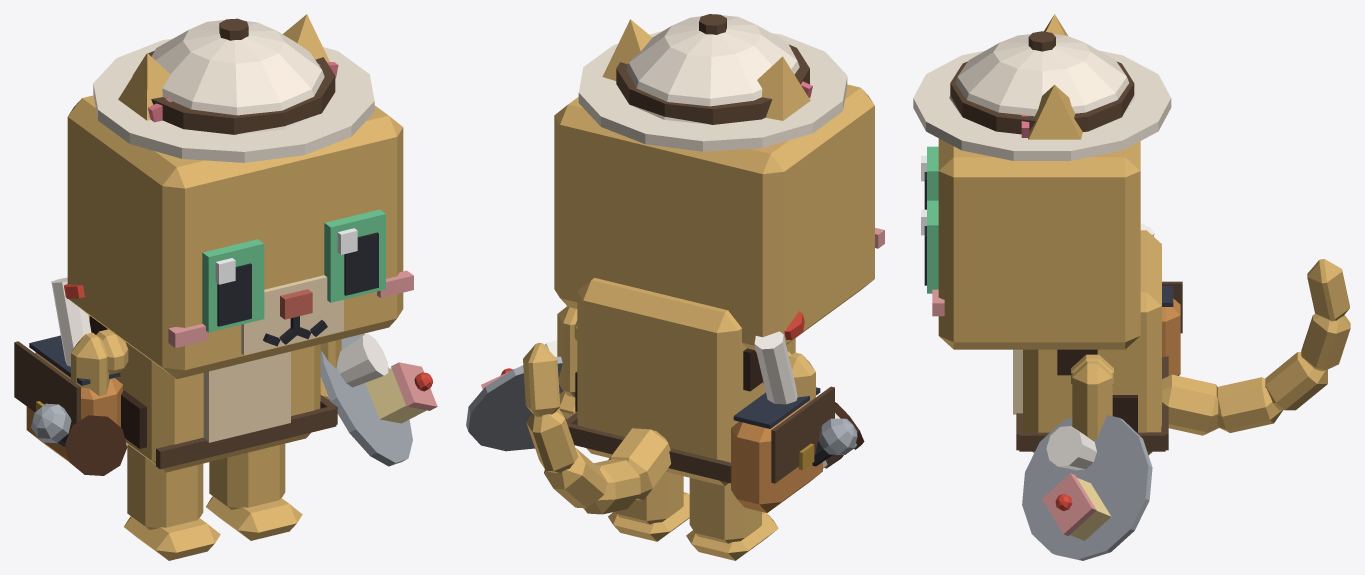
The model's file is CatCafe_Cat_Bengal_Work.glb.
3 views of the same model, side by side, from view 1: azimuth 30°, elevation 25°; view 2: azimuth 150°, elevation 25°; view 3: azimuth 270°, elevation 25° (orthographic). The views are drawn at different scales.
Parts seen in each view (by area): view 1: CatCafe_Cat_Bengal_Work_Head, CatCafe_Cat_Bengal_Work_Prop, CatCafe_Cat_Bengal_Work_Body, CatCafe_Cat_Bengal_Work_Held_Waiter, CatCafe_Cat_Bengal_Work_LegB2, CatCafe_Cat_Bengal_Work_LegB1, CatCafe_Cat_Bengal_Work_Eye2, CatCafe_Cat_Bengal_Work_Eye1, CatCafe_Cat_Bengal_Work_Held_Barista, CatCafe_Cat_Bengal_Work_EarR, CatCafe_Cat_Bengal_Work_LegF2, CatCafe_Cat_Bengal_Work_Held_Entertainer (+1 smaller); view 2: CatCafe_Cat_Bengal_Work_Head, CatCafe_Cat_Bengal_Work_Body, CatCafe_Cat_Bengal_Work_Prop, CatCafe_Cat_Bengal_Work_Tail, CatCafe_Cat_Bengal_Work_LegB2, CatCafe_Cat_Bengal_Work_Held_Waiter, CatCafe_Cat_Bengal_Work_LegB1, CatCafe_Cat_Bengal_Work_EarR, CatCafe_Cat_Bengal_Work_LegF1, CatCafe_Cat_Bengal_Work_Held_Entertainer, CatCafe_Cat_Bengal_Work_EarL, CatCafe_Cat_Bengal_Work_LegF2; view 3: CatCafe_Cat_Bengal_Work_Head, CatCafe_Cat_Bengal_Work_Prop, CatCafe_Cat_Bengal_Work_Body, CatCafe_Cat_Bengal_Work_Held_Waiter, CatCafe_Cat_Bengal_Work_Tail, CatCafe_Cat_Bengal_Work_LegF1, CatCafe_Cat_Bengal_Work_EarL, CatCafe_Cat_Bengal_Work_Eye1, CatCafe_Cat_Bengal_Work_Eye2.
Part boxes in pixels (x1=…): CatCafe_Cat_Bengal_Work_Head: x1=67, y1=95, x2=413, y2=378; CatCafe_Cat_Bengal_Work_Prop: x1=93, y1=18, x2=374, y2=162; CatCafe_Cat_Bengal_Work_Body: x1=14, y1=277, x2=337, y2=472; CatCafe_Cat_Bengal_Work_Held_Waiter: x1=320, y1=333, x2=437, y2=466; CatCafe_Cat_Bengal_Work_LegB2: x1=124, y1=444, x2=220, y2=560; CatCafe_Cat_Bengal_Work_LegB1: x1=206, y1=443, x2=302, y2=540; CatCafe_Cat_Bengal_Work_Eye2: x1=202, y1=239, x2=264, y2=332; CatCafe_Cat_Bengal_Work_Eye1: x1=324, y1=209, x2=385, y2=302; CatCafe_Cat_Bengal_Work_Held_Barista: x1=65, y1=415, x2=127, y2=475; CatCafe_Cat_Bengal_Work_EarR: x1=118, y1=53, x2=172, y2=122; CatCafe_Cat_Bengal_Work_LegF2: x1=71, y1=332, x2=110, y2=396; CatCafe_Cat_Bengal_Work_Held_Entertainer: x1=31, y1=403, x2=71, y2=446; CatCafe_Cat_Bengal_Work_Head: x1=554, y1=84, x2=884, y2=352; CatCafe_Cat_Bengal_Work_Body: x1=566, y1=278, x2=834, y2=512; CatCafe_Cat_Bengal_Work_Prop: x1=578, y1=14, x2=847, y2=151; CatCafe_Cat_Bengal_Work_Tail: x1=523, y1=343, x2=671, y2=514; CatCafe_Cat_Bengal_Work_LegB2: x1=686, y1=478, x2=778, y2=560; CatCafe_Cat_Bengal_Work_Held_Waiter: x1=466, y1=340, x2=566, y2=451; CatCafe_Cat_Bengal_Work_LegB1: x1=608, y1=472, x2=689, y2=541; CatCafe_Cat_Bengal_Work_EarR: x1=757, y1=56, x2=812, y2=120; CatCafe_Cat_Bengal_Work_LegF1: x1=557, y1=306, x2=577, y2=418; CatCafe_Cat_Bengal_Work_Held_Entertainer: x1=812, y1=418, x2=857, y2=466; CatCafe_Cat_Bengal_Work_EarL: x1=602, y1=19, x2=652, y2=80; CatCafe_Cat_Bengal_Work_LegF2: x1=789, y1=352, x2=815, y2=403; CatCafe_Cat_Bengal_Work_Head: x1=932, y1=138, x2=1140, y2=349; CatCafe_Cat_Bengal_Work_Prop: x1=913, y1=31, x2=1171, y2=160; CatCafe_Cat_Bengal_Work_Body: x1=1013, y1=223, x2=1182, y2=455; CatCafe_Cat_Bengal_Work_Held_Waiter: x1=1022, y1=415, x2=1152, y2=560; CatCafe_Cat_Bengal_Work_Tail: x1=1162, y1=259, x2=1350, y2=435; CatCafe_Cat_Bengal_Work_LegF1: x1=1072, y1=361, x2=1112, y2=441; CatCafe_Cat_Bengal_Work_EarL: x1=1021, y1=85, x2=1082, y2=139; CatCafe_Cat_Bengal_Work_Eye1: x1=921, y1=200, x2=938, y2=293; CatCafe_Cat_Bengal_Work_Eye2: x1=921, y1=146, x2=938, y2=209.
Size of the model in its own units: 1.53 by 1.98 by 1.65.
1 material, 1 textured.
